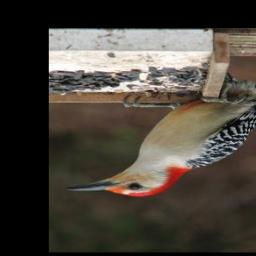Woodpecker: (65, 72, 256, 197)
